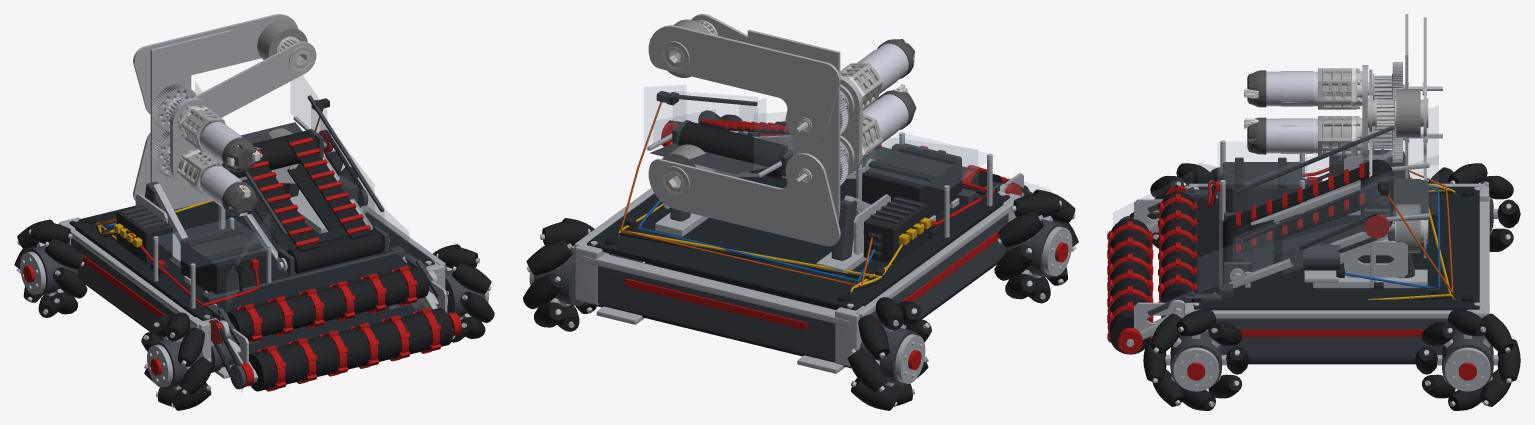
Rendered from robot-v2.glb.
3 views of the same model, side by side, from view 1: azimuth 30°, elevation 25°; view 2: azimuth 150°, elevation 25°; view 3: azimuth 270°, elevation 25° (orthographic). The views are drawn at different scales.
Visible parts, largest first — view 1: INFERRED_INDEXER__Roller_rubber, INFERRED_CHASSIS__Dark_composite, INFERRED_INDEXER__Clear_polycarbonate, INFERRED_INTAKE_ROLLER_FRONT__Roller_rubber, INFERRED_CHASSIS__Connector_housing, INFERRED_CHASSIS__Satin_aluminum, INFERRED_INTAKE_ROLLER_TRANSFER__Roller_rubber, Body1.170, INFERRED_INDEXER__Dark_composite, INFERRED_WHEEL_L_REAR__Roller_rubber, INFERRED_WHEEL_L_FRONT__Roller_rubber, INFERRED_CHASSIS__Dark_anodized_alloy (+33 smaller); view 2: INFERRED_CHASSIS__Dark_composite, INFERRED_CHASSIS__Dark_anodized_alloy, INFERRED_CHASSIS__Satin_aluminum, Body1.165, Body1.171, INFERRED_INDEXER__Clear_polycarbonate, INFERRED_CHASSIS__Connector_housing, INFERRED_WHEEL_L_REAR__Roller_rubber, INFERRED_WHEEL_L_FRONT__Roller_rubber, INFERRED_CHASSIS__Clear_polycarbonate, INFERRED_WHEEL_R_REAR__Roller_rubber, Body1.170 (+23 smaller); view 3: INFERRED_INDEXER__Clear_polycarbonate, INFERRED_CHASSIS__Dark_composite, INFERRED_CHASSIS__Satin_aluminum, INFERRED_CHASSIS__Dark_anodized_alloy, INFERRED_INDEXER__Roller_rubber, INFERRED_WHEEL_R_REAR__Roller_rubber, INFERRED_WHEEL_R_FRONT__Roller_rubber, INFERRED_INDEXER__Dark_anodized_alloy, INFERRED_CHASSIS__Connector_housing, INFERRED_INDEXER__Satin_aluminum, INFERRED_INTAKE_ROLLER_FRONT__Roller_rubber, INFERRED_INDEXER__Dark_composite (+36 smaller).
Part boxes in pixels (x1,y1,x2,y2): INFERRED_INDEXER__Roller_rubber: (229, 130, 382, 273); INFERRED_CHASSIS__Dark_composite: (69, 189, 434, 333); INFERRED_INDEXER__Clear_polycarbonate: (195, 75, 408, 307); INFERRED_INTAKE_ROLLER_FRONT__Roller_rubber: (249, 308, 452, 391); INFERRED_CHASSIS__Connector_housing: (101, 205, 266, 298); INFERRED_CHASSIS__Satin_aluminum: (58, 183, 445, 362); INFERRED_INTAKE_ROLLER_TRANSFER__Roller_rubber: (227, 266, 428, 340); Body1.170: (150, 30, 230, 209); INFERRED_INDEXER__Dark_composite: (227, 228, 408, 309); INFERRED_WHEEL_L_REAR__Roller_rubber: (14, 219, 87, 317); INFERRED_WHEEL_L_FRONT__Roller_rubber: (141, 312, 214, 410); INFERRED_CHASSIS__Dark_anodized_alloy: (71, 181, 387, 344); INFERRED_CHASSIS__Dark_composite: (587, 131, 1009, 368); INFERRED_CHASSIS__Dark_anodized_alloy: (597, 197, 1008, 361); INFERRED_CHASSIS__Satin_aluminum: (574, 130, 1021, 366); Body1.165: (648, 153, 840, 246); Body1.171: (648, 25, 840, 145); INFERRED_INDEXER__Clear_polycarbonate: (644, 85, 977, 184); INFERRED_CHASSIS__Connector_housing: (624, 143, 986, 275); INFERRED_WHEEL_L_REAR__Roller_rubber: (847, 297, 931, 410); INFERRED_WHEEL_L_FRONT__Roller_rubber: (994, 189, 1078, 303); INFERRED_CHASSIS__Clear_polycarbonate: (858, 133, 995, 190); INFERRED_WHEEL_R_REAR__Roller_rubber: (523, 218, 596, 331); Body1.170: (747, 29, 840, 222); INFERRED_INDEXER__Clear_polycarbonate: (1199, 105, 1438, 292); INFERRED_CHASSIS__Dark_composite: (1194, 186, 1479, 364); INFERRED_CHASSIS__Satin_aluminum: (1184, 143, 1489, 331); INFERRED_CHASSIS__Dark_anodized_alloy: (1208, 148, 1456, 358); INFERRED_INDEXER__Roller_rubber: (1223, 159, 1393, 275); INFERRED_WHEEL_R_REAR__Roller_rubber: (1415, 309, 1520, 410); INFERRED_WHEEL_R_FRONT__Roller_rubber: (1143, 309, 1248, 410); INFERRED_INDEXER__Dark_anodized_alloy: (1224, 126, 1428, 286); INFERRED_CHASSIS__Connector_housing: (1222, 150, 1439, 294); INFERRED_INDEXER__Satin_aluminum: (1229, 163, 1429, 288); INFERRED_INTAKE_ROLLER_FRONT__Roller_rubber: (1109, 218, 1150, 354); INFERRED_INDEXER__Dark_composite: (1198, 198, 1273, 292).
Bounding box in the file's own units: 0.422 × 0.3294 × 0.4323.
